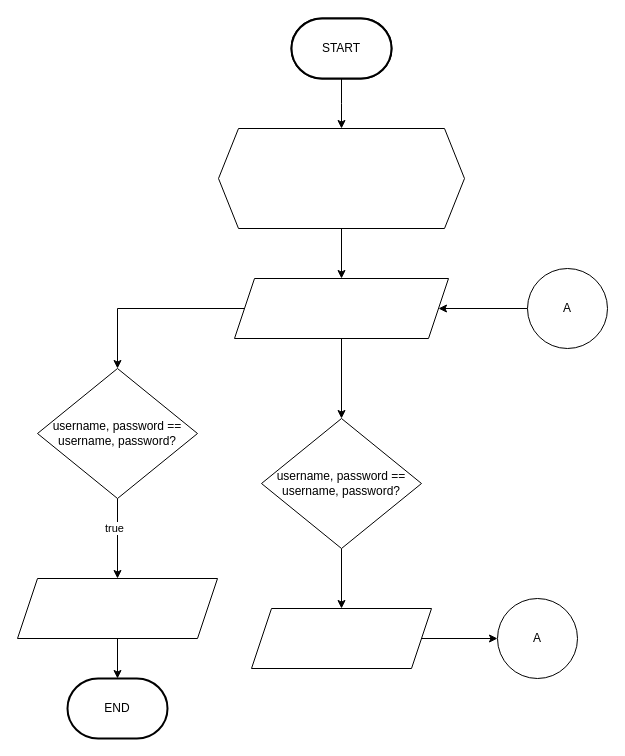
This 625x756 diagram has some shape labels left out. The centre of each missing label's shape, as x and y in pixels:
"the username or password incorrect": (x=341, y=638)
declare variable: username, password: (x=341, y=178)
input username and password: (x=341, y=308)
proceeds to dashboard: (x=117, y=608)
